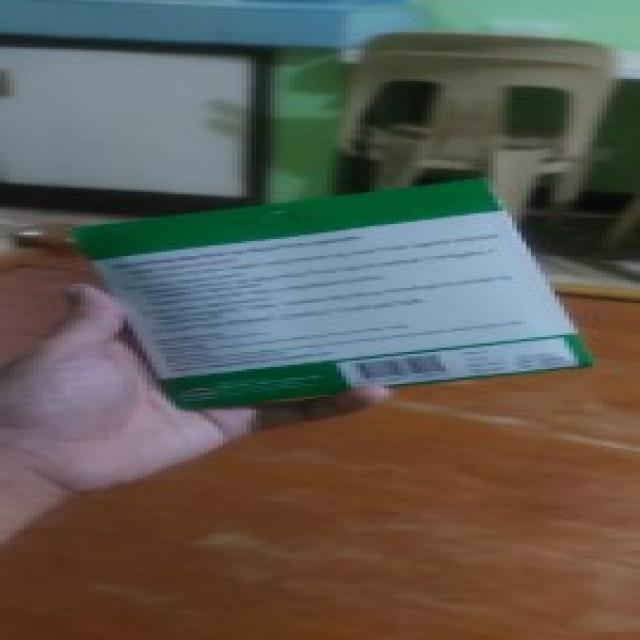Cacat: (69, 179, 602, 409)
